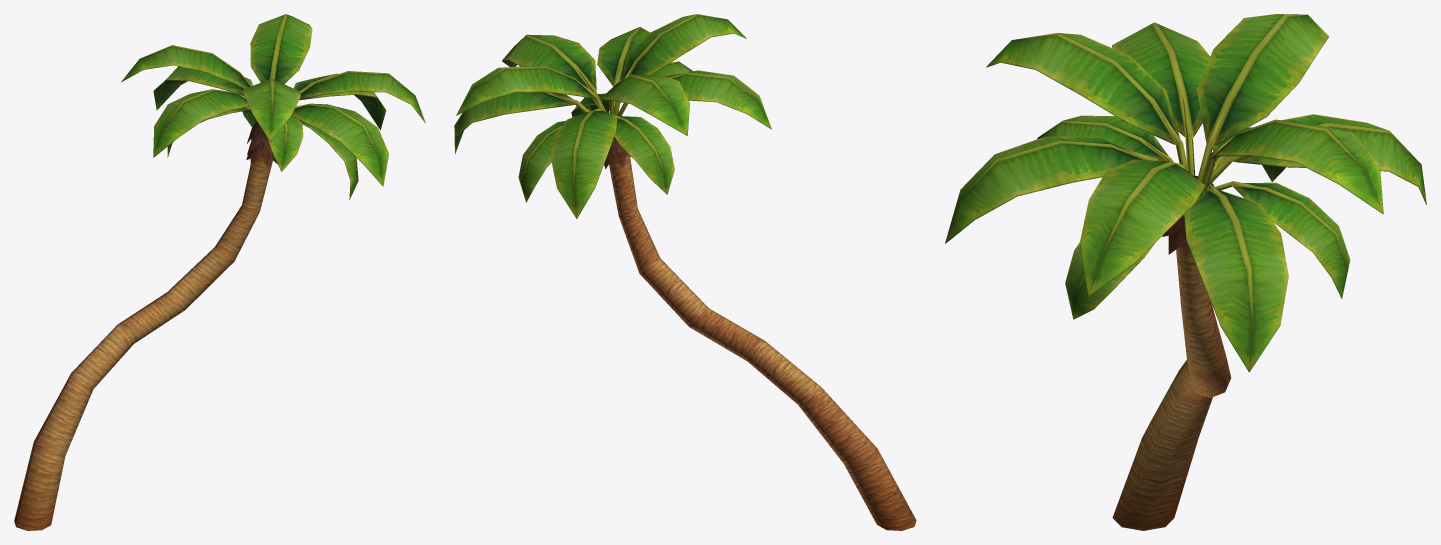
File: ETC0610020.fbx
3 views of the same model, side by side, from view 1: azimuth 30°, elevation 25°; view 2: azimuth 150°, elevation 25°; view 3: azimuth 270°, elevation 25° (orthographic). The views are drawn at different scales.
Visible parts, largest first — view 1: smETC0610020; view 2: smETC0610020; view 3: smETC0610020.
Part boxes in pixels (<box>): smETC0610020: <box>14,14,425,530</box>; smETC0610020: <box>454,14,916,530</box>; smETC0610020: <box>945,14,1426,530</box>.
Size of the model in its own units: 637 by 619 by 414.
1 material, 1 textured.
